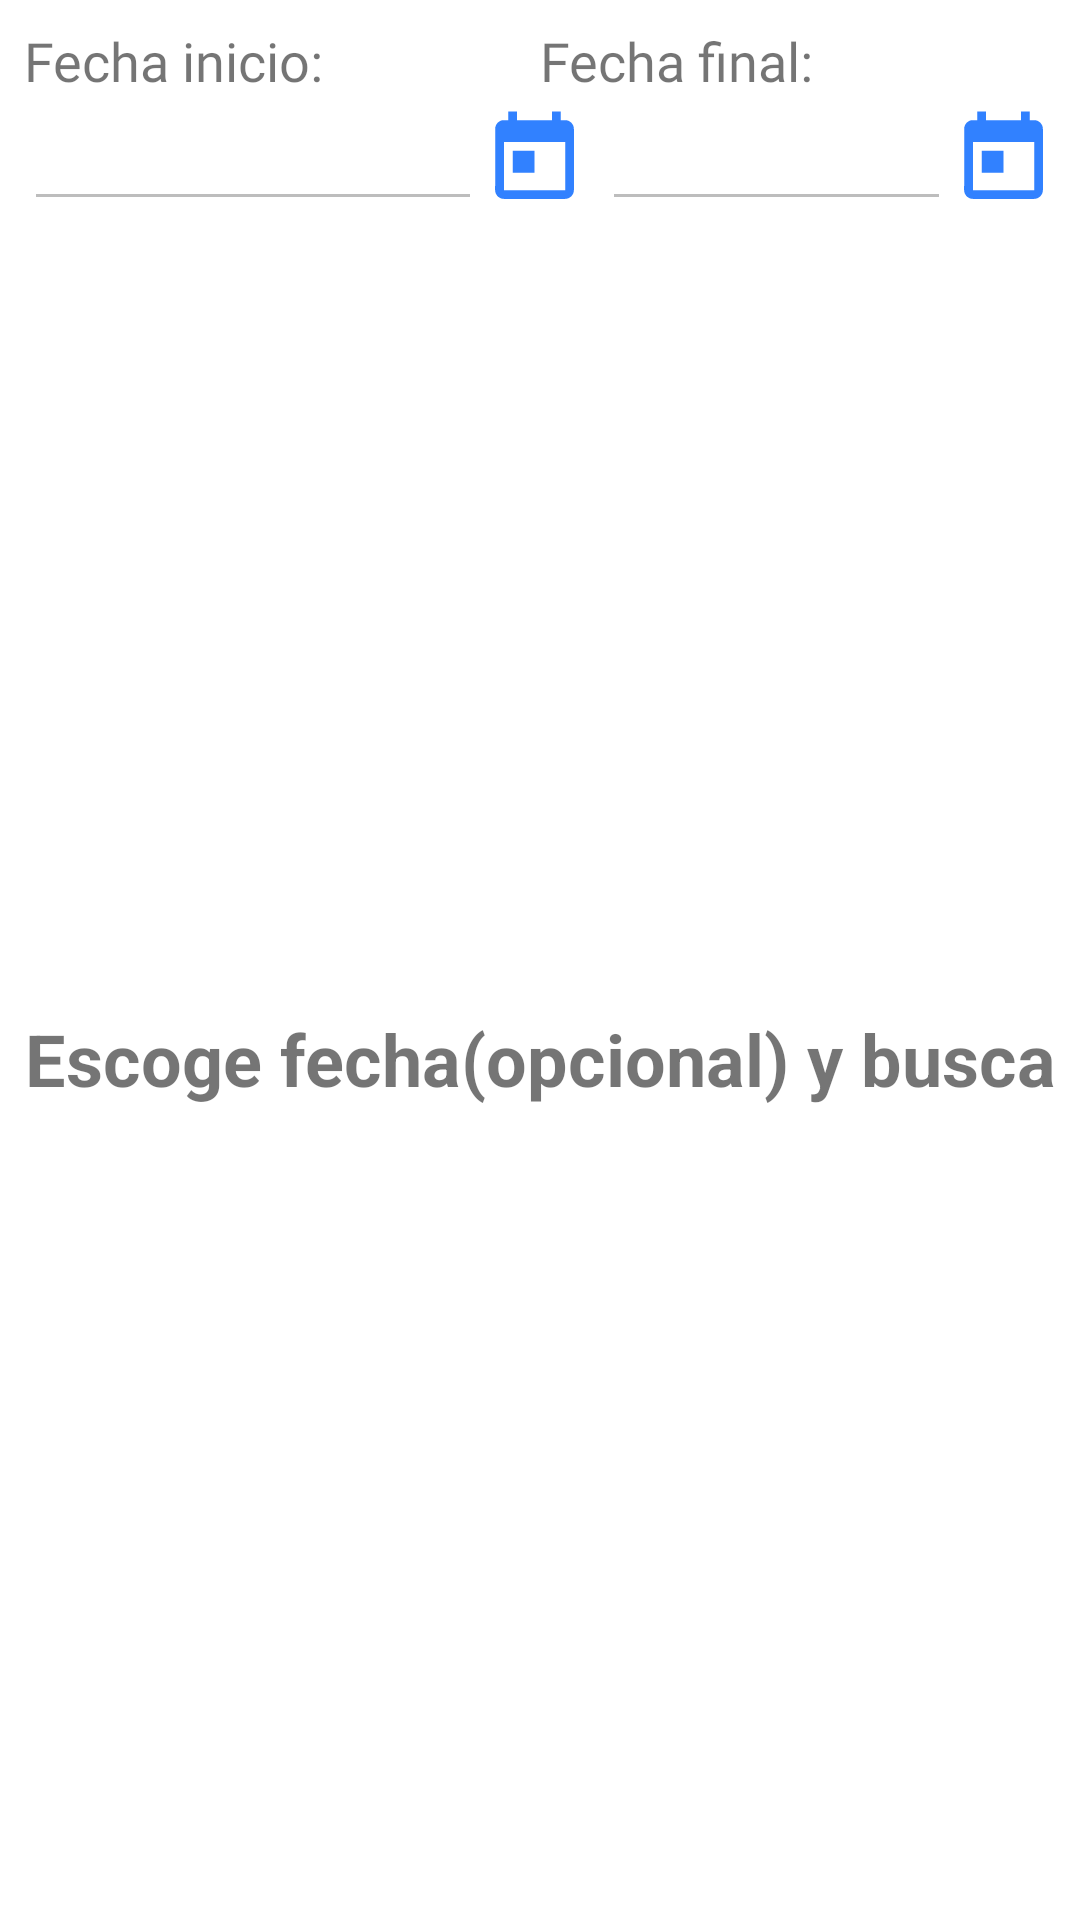

Screen size 1080px×1920px. Icon name, then its box in pixels as BBox(x1, y1, x2, y2):
today: BBox(495, 111, 574, 199), BBox(964, 111, 1043, 199)
